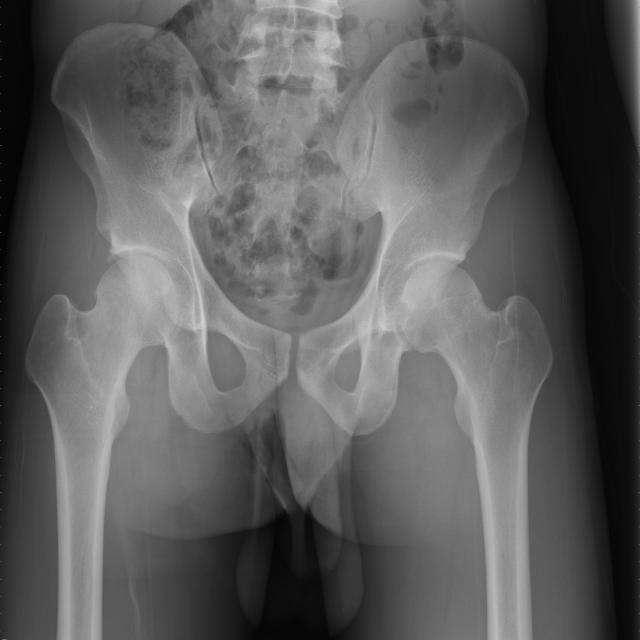normal-left: (400, 261, 553, 569)
normal-right: (25, 255, 180, 549)
